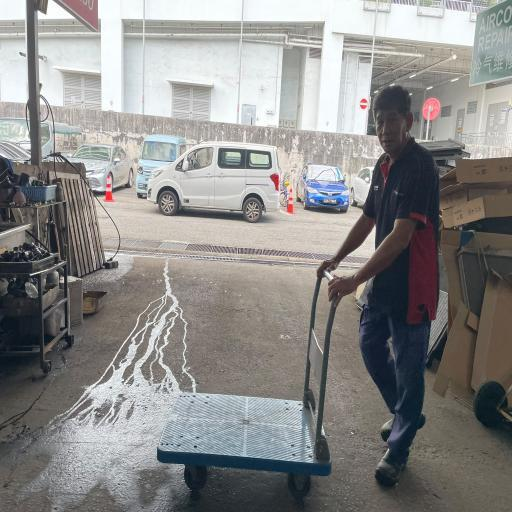person_left: (157, 86, 440, 500)
